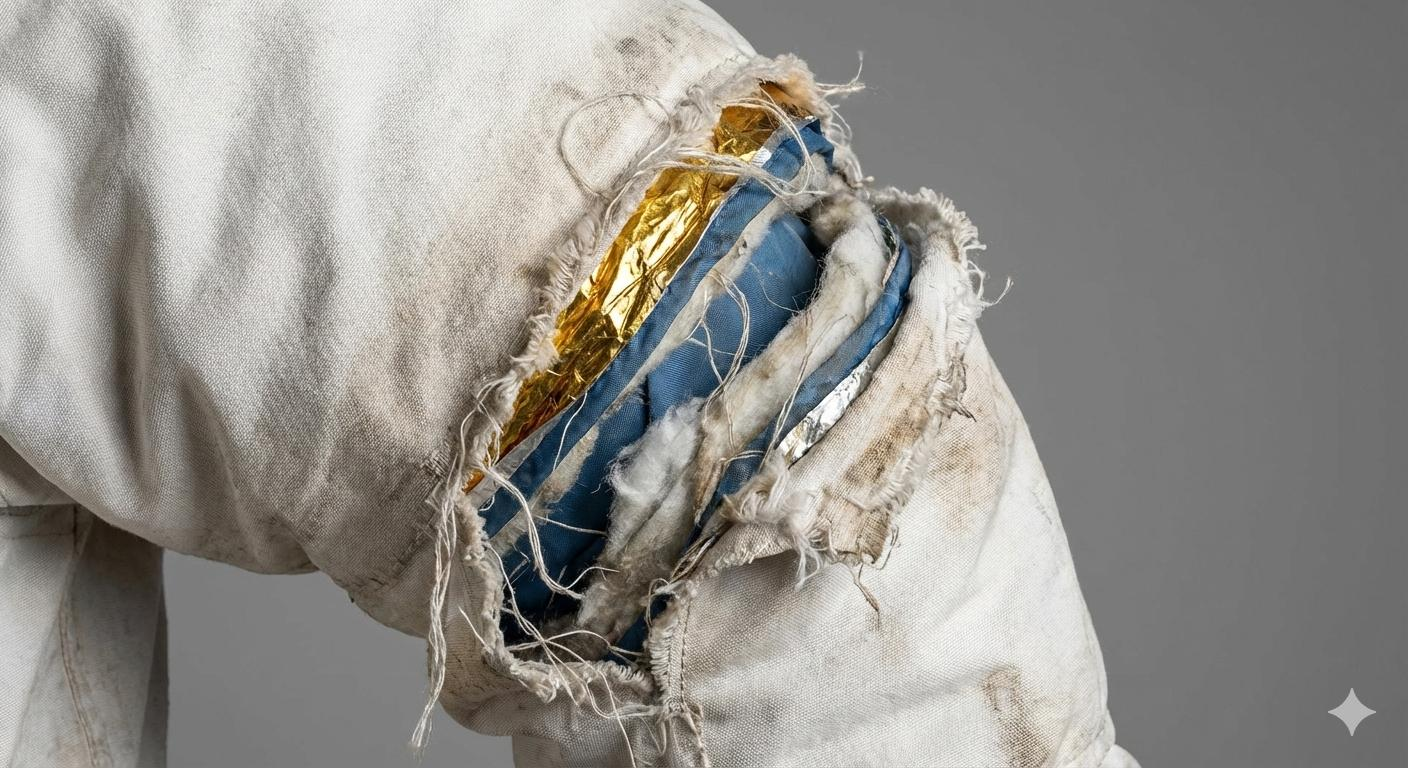tear: (384, 51, 1026, 706)
